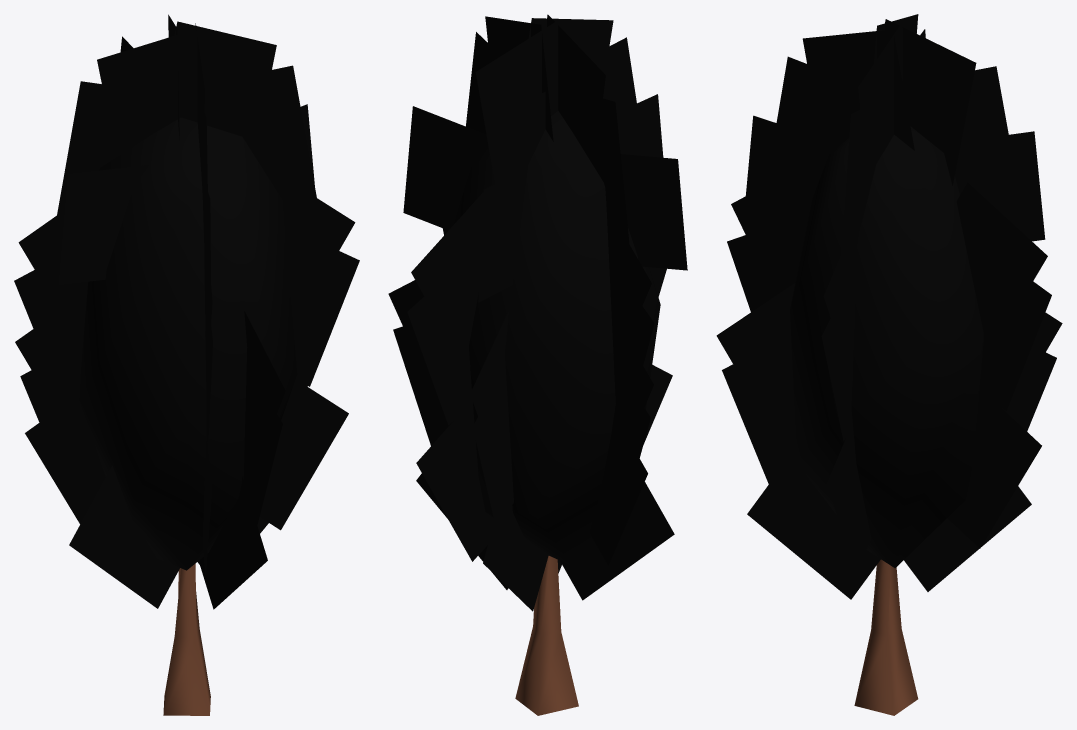
The model's file is FBX_Tree_C.fbx.
3 views of the same model, side by side, from view 1: azimuth 30°, elevation 25°; view 2: azimuth 150°, elevation 25°; view 3: azimuth 270°, elevation 25° (orthographic).
Visible parts, largest first — view 1: Tree_C; view 2: Tree_C; view 3: Tree_C.
Boxes of the visible parts, bbox=[...] form: Tree_C: bbox=[14, 14, 359, 715]; Tree_C: bbox=[388, 14, 687, 715]; Tree_C: bbox=[716, 14, 1062, 715].
Size of the model in its own units: 188 by 193 by 419.
